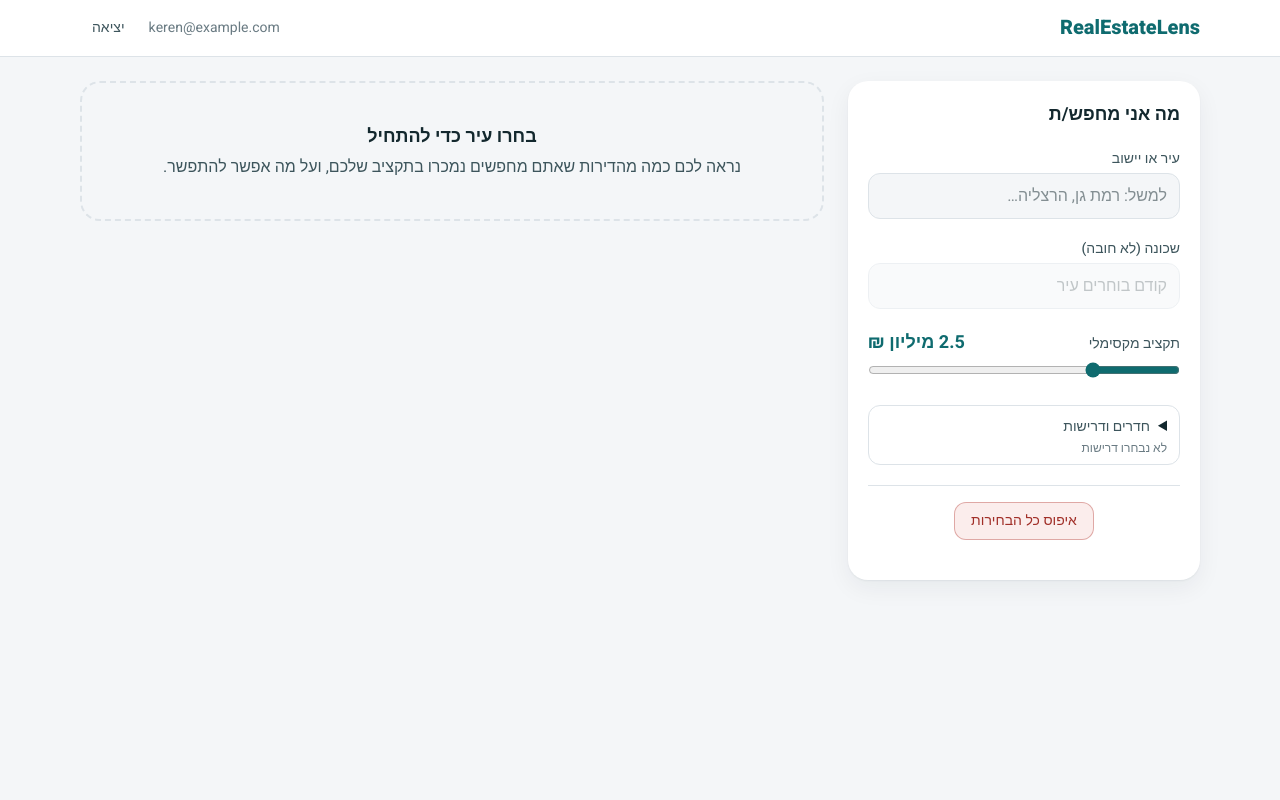
Scenario: logout › after confirming, ends the session and returns to the login screen
The image size is (1280, 800).
Click the button "יציאה" at (108, 28), box [80,12,137,44]
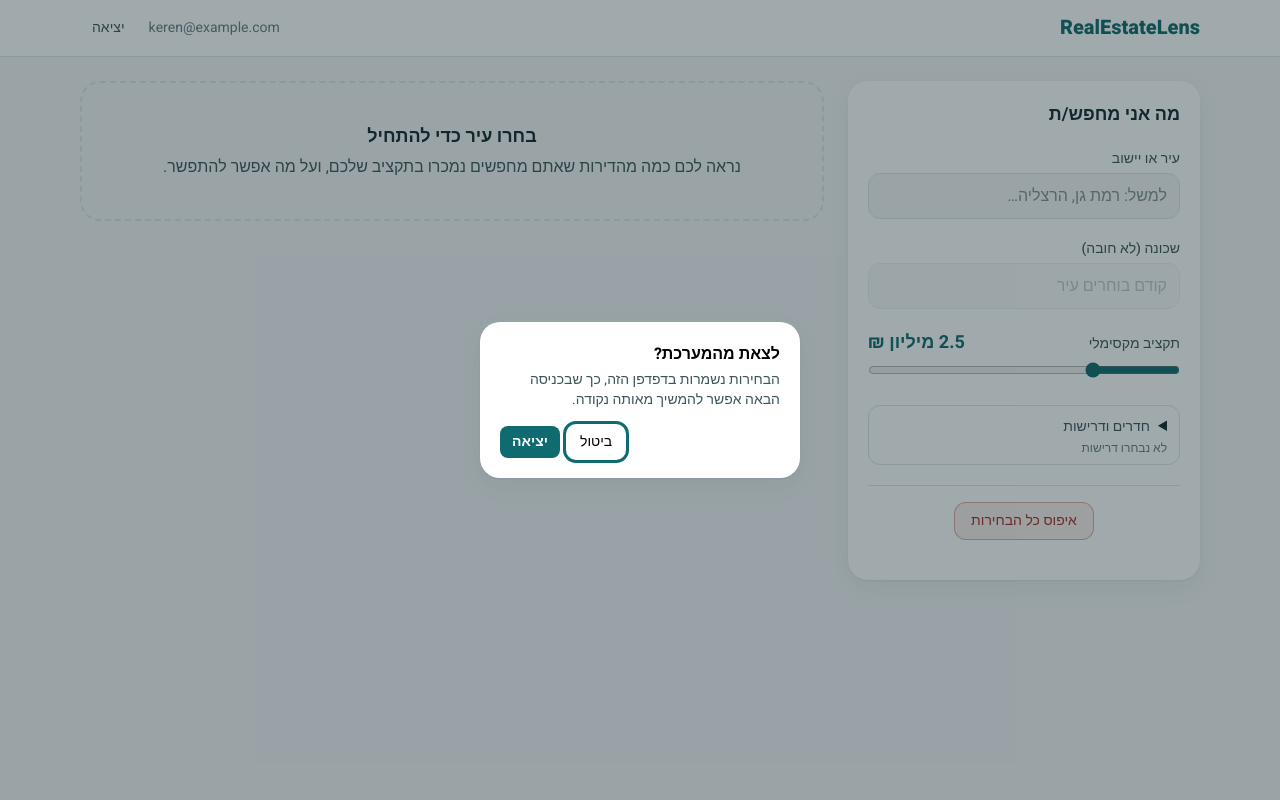
Click the button "יציאה" at (530, 442), box [500,426,560,458]
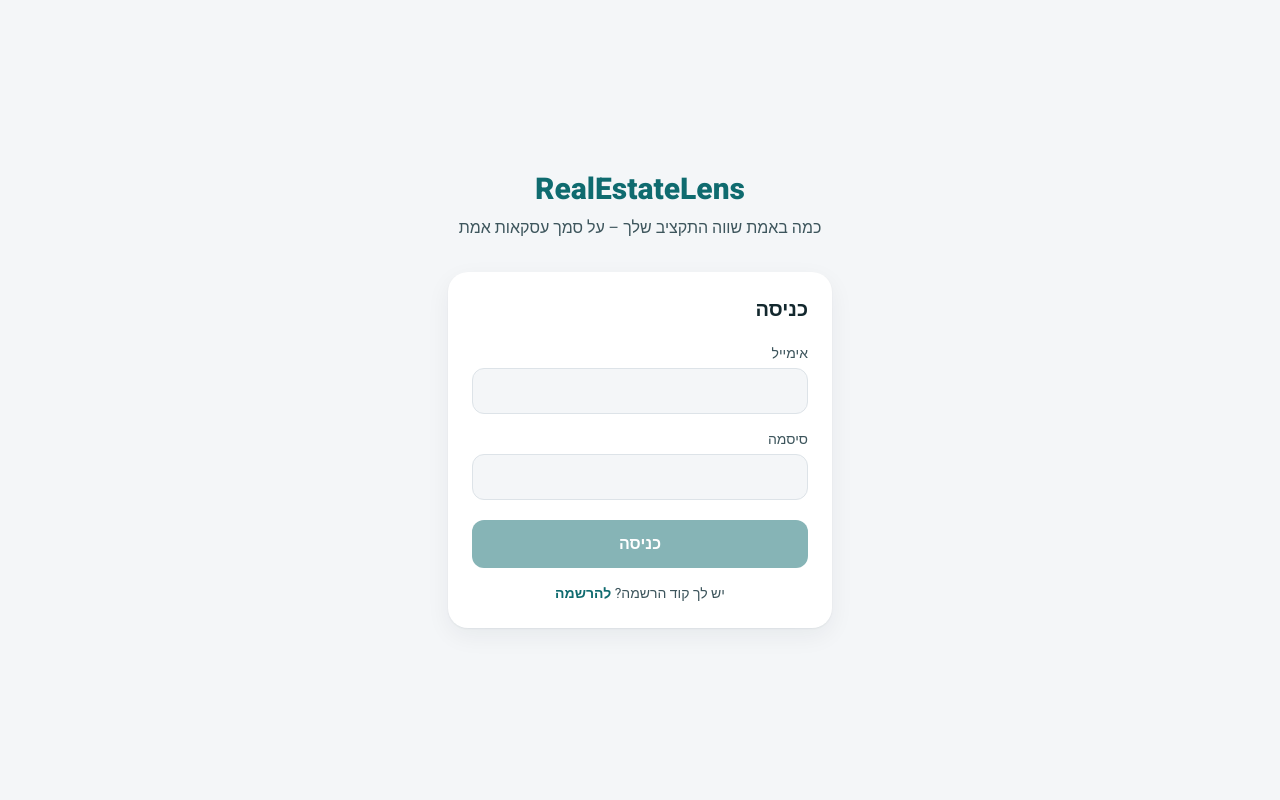
Now the heading "כניסה" is shown, box [755,295,808,324]
